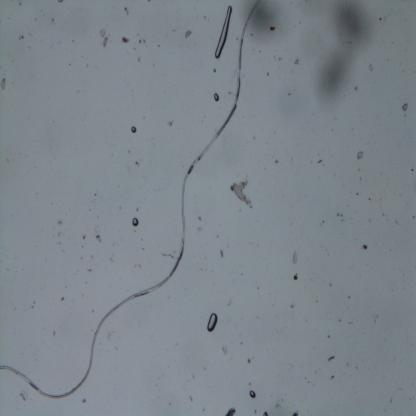Air bubble: (214, 5, 233, 61), (207, 311, 218, 333), (249, 390, 257, 398), (132, 218, 139, 226), (130, 126, 137, 134), (214, 92, 219, 103)
Background material: (314, 0, 373, 110), (247, 1, 289, 44), (230, 177, 255, 210), (98, 28, 109, 47), (16, 385, 30, 399), (354, 148, 364, 164), (120, 5, 130, 18), (184, 28, 194, 41), (317, 154, 327, 166), (164, 116, 174, 128), (52, 219, 64, 229), (107, 252, 117, 264), (161, 252, 175, 260), (194, 213, 204, 223), (226, 406, 236, 416), (270, 155, 279, 166), (95, 233, 103, 245), (220, 346, 230, 355), (121, 36, 131, 45), (0, 77, 6, 92), (291, 253, 299, 264), (400, 104, 409, 113), (245, 356, 254, 365), (327, 354, 336, 362), (132, 262, 141, 270), (294, 56, 300, 66), (293, 272, 299, 282), (219, 248, 224, 259), (81, 233, 88, 240), (264, 68, 270, 76), (58, 296, 64, 304), (362, 244, 368, 252), (291, 410, 299, 416), (261, 410, 268, 416), (331, 373, 336, 381), (87, 267, 93, 273), (338, 213, 344, 219), (21, 34, 26, 41), (139, 236, 144, 243), (292, 305, 296, 309), (136, 208, 138, 211)
Microfibre: (0, 1, 263, 400)
